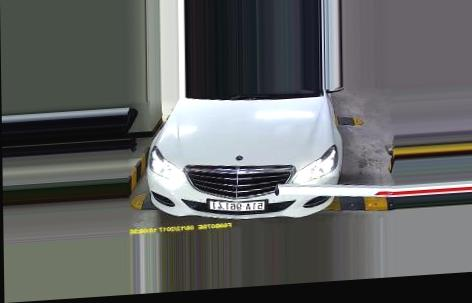License_Plate: (207, 197, 266, 213)
